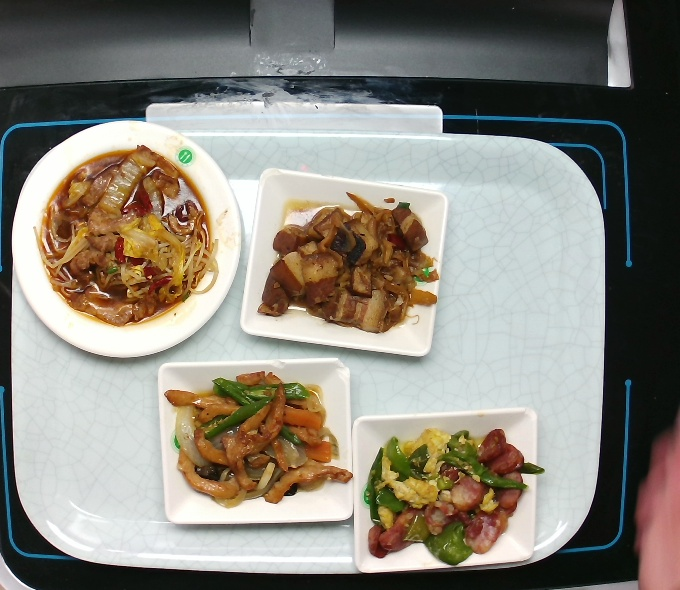wcq-HongShaoRou: (256, 184, 441, 334)
wcq-QingJiaoJiDanChaoDaChang: (361, 425, 545, 567)
wcq-QingJiaoRouSi: (159, 367, 356, 506)
wcq-ShuiZhuRouPian: (39, 147, 211, 329)
